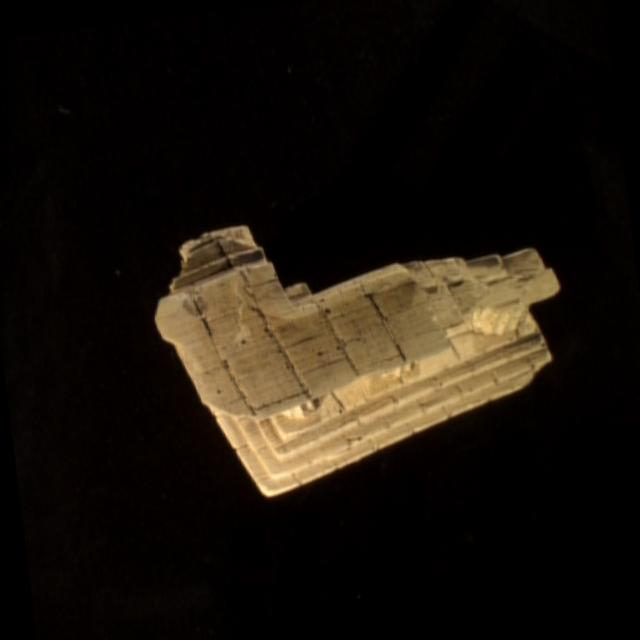Instance-Segmentation: (156, 226, 559, 495)
